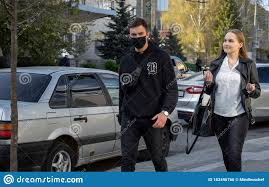no-mask: (218, 27, 248, 58)
with-mask: (126, 15, 153, 55)
